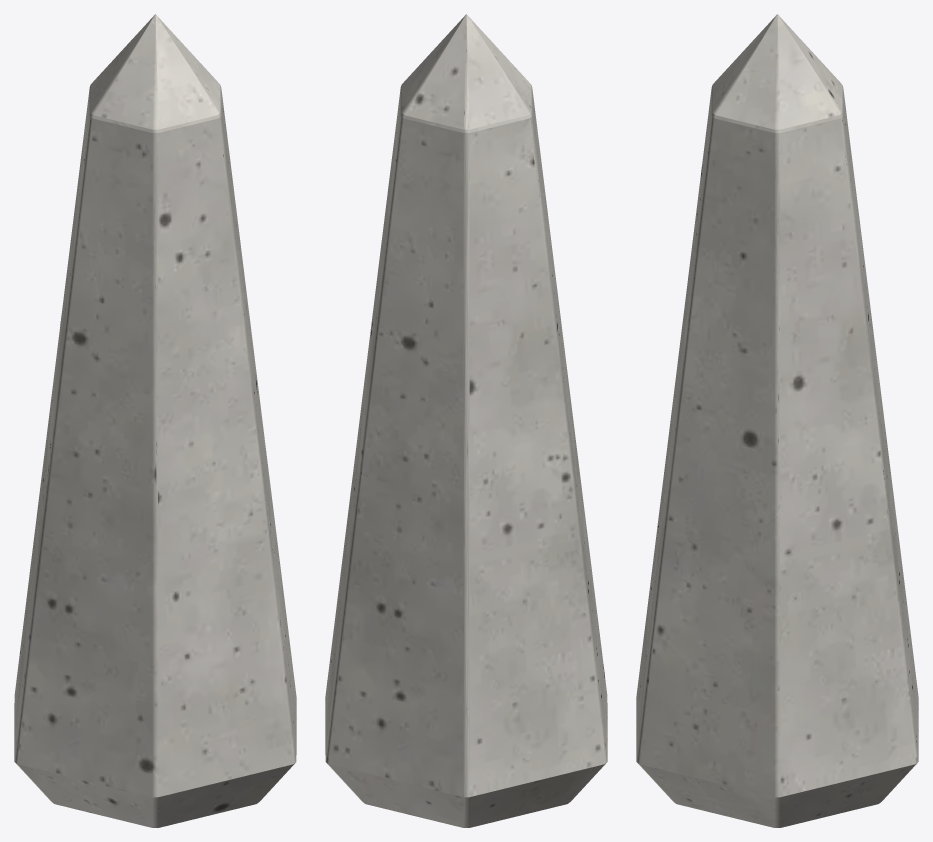
The model's file is hexalith_white_bishop.glb.
3 renders of one model, left to right at view 1: azimuth 30°, elevation 25°; view 2: azimuth 150°, elevation 25°; view 3: azimuth 270°, elevation 25°, orthographic.
Parts seen in each view (by area): view 1: HEXALITH_white_bishop; view 2: HEXALITH_white_bishop; view 3: HEXALITH_white_bishop.
Boxes of the visible parts, x1=… form: HEXALITH_white_bishop: x1=14, y1=14, x2=296, y2=827; HEXALITH_white_bishop: x1=325, y1=14, x2=607, y2=827; HEXALITH_white_bishop: x1=636, y1=14, x2=918, y2=827.
Size of the model in its own units: 0.0306 by 0.0802 by 0.0268.
1 material, 1 textured.
